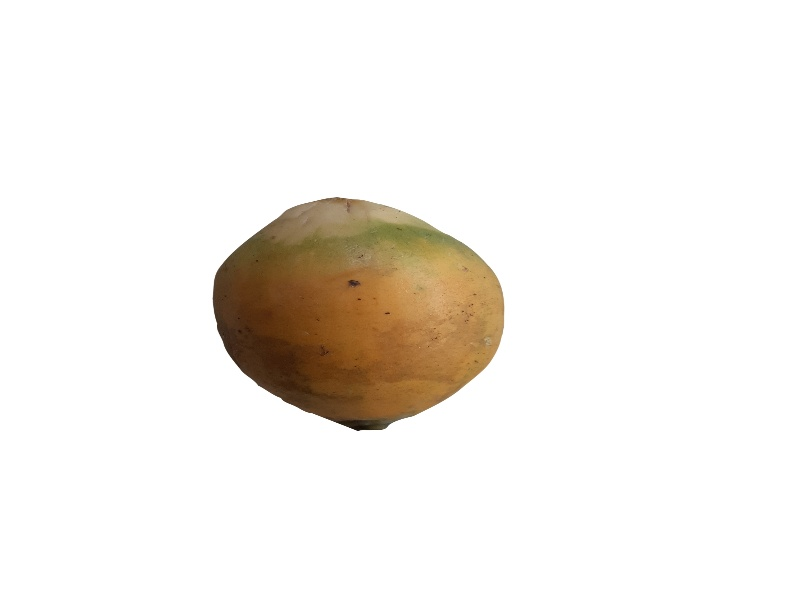arecanut: (199, 190, 515, 437)
